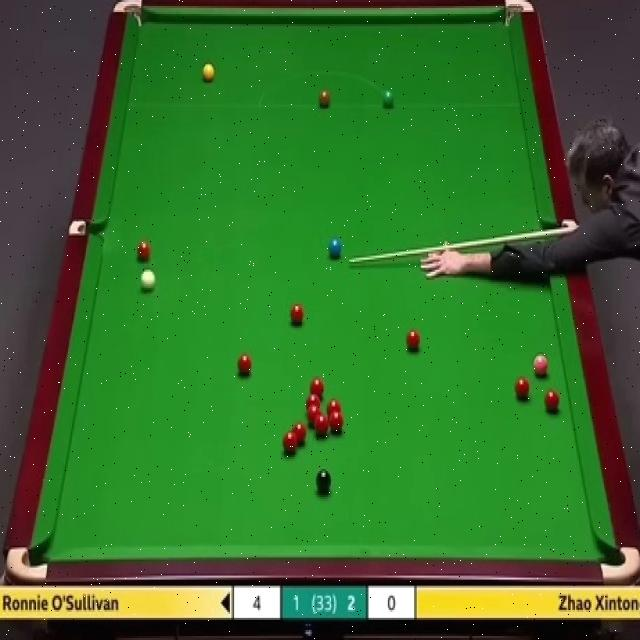black-ball: (315, 469, 332, 491)
blue-ball: (328, 237, 343, 260)
brown-ball: (318, 89, 330, 108)
green-ball: (382, 90, 396, 108)
pink-ball: (532, 354, 550, 377)
red-ball: (543, 388, 560, 412), (515, 374, 530, 400), (289, 302, 305, 326), (135, 239, 152, 261), (404, 328, 420, 351), (292, 422, 307, 446), (236, 352, 252, 374), (330, 409, 344, 434), (284, 430, 298, 454), (309, 377, 324, 398), (315, 414, 329, 436), (307, 405, 321, 426), (305, 394, 320, 411), (327, 398, 342, 413)
white-ball: (141, 271, 156, 293)
yellow-ball: (202, 64, 214, 85)
